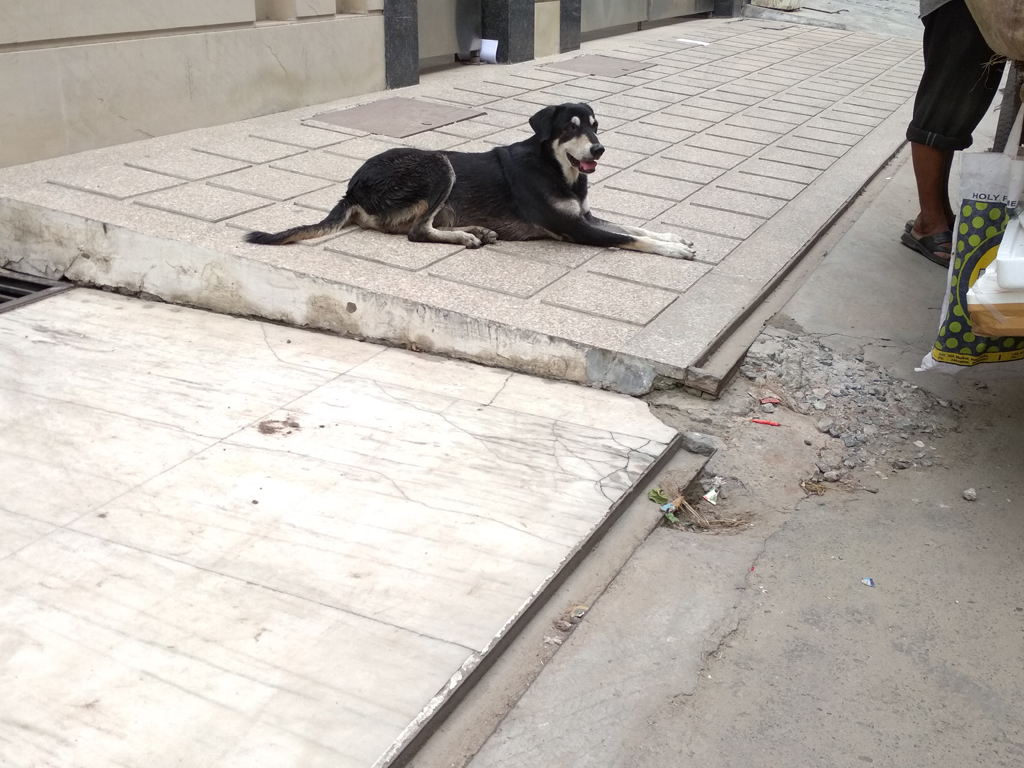dog: (245, 102, 698, 261)
